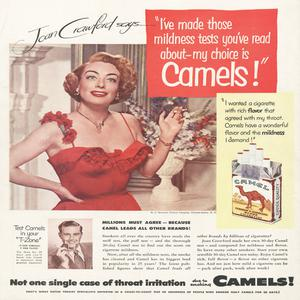cigarette: (171, 107, 189, 116), (55, 243, 65, 253)
